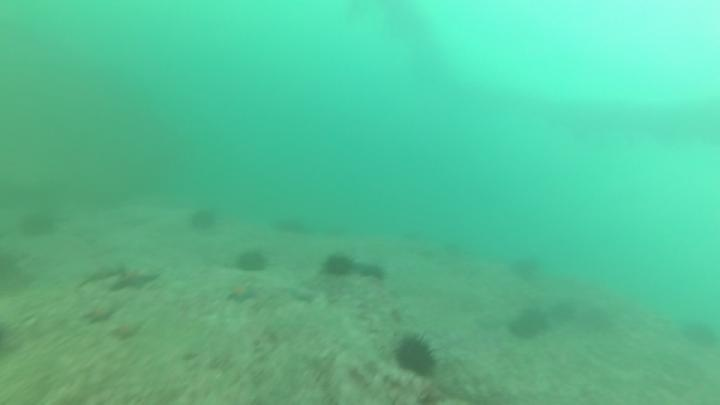echinus: (392, 332, 440, 380), (505, 305, 551, 343), (16, 208, 59, 242), (678, 317, 719, 351), (319, 250, 358, 281), (233, 246, 270, 276), (507, 253, 543, 283), (186, 205, 220, 235), (271, 213, 309, 238), (353, 258, 389, 284), (549, 298, 578, 326)
starfish: (107, 262, 163, 295), (79, 299, 120, 327), (222, 279, 260, 306), (108, 317, 145, 343)
